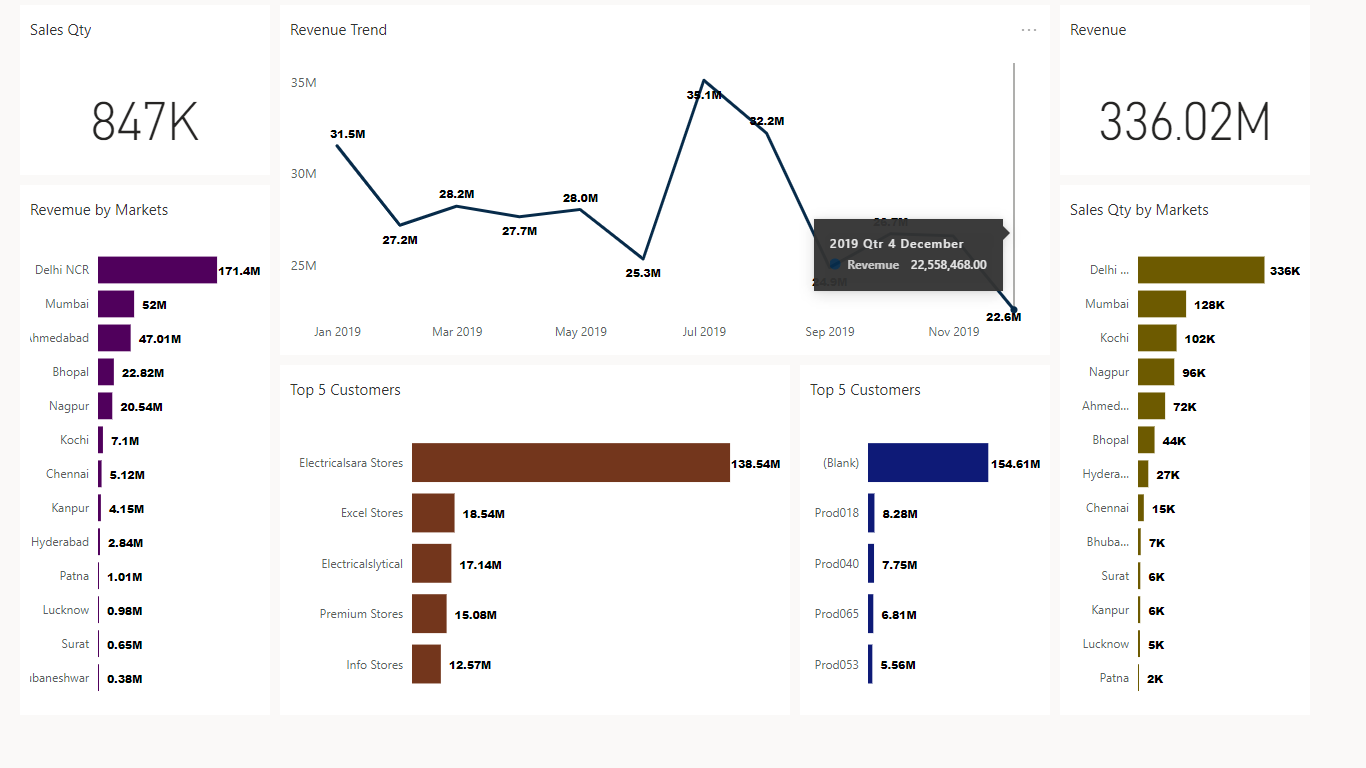

Layout of this report page (visuals, bound fields, positions):
{"tool":"powerbi","page":{"name":"Page 1","canvas":[1280,720],"ordinal":0},"visuals":[{"type":"card","fields":{"Values":["Base Measures.Revemue"]},"box":[165.9,0,236.6,140],"z":0},{"type":"card","fields":{"Values":["Base Measures.Sales Qty"]},"box":[0,0,155.8,140],"z":1000},{"type":"clusteredBarChart","title":"Revemue by Markets","fields":{"Y":["Base Measures.Revemue"],"Category":["sales markets.markets_name"]},"box":[0,154.4,376.6,565.6],"z":2000},{"type":"clusteredBarChart","title":"Sales Qty by Markets","fields":{"Y":["Base Measures.Sales Qty"],"Category":["sales markets.markets_name"]},"box":[402.6,329,376.6,391],"z":3000},{"type":"slicer","fields":{"Values":["sales date.year"]},"box":[415.6,10.1,346.3,95.2],"z":4000},{"type":"slicer","fields":{"Values":["sales date.cy_date"]},"box":[761.8,10.1,507.9,95.2],"z":5000},{"type":"clusteredBarChart","title":"Top 5 Customers","fields":{"Y":["Base Measures.Revemue"],"Category":["sales customers.custmer_name"]},"box":[799.4,515.1,470.4,204.9],"z":6000},{"type":"clusteredBarChart","title":"Top 5 Customers","fields":{"Y":["Base Measures.Revemue"],"Category":["sales products.product_code"]},"box":[799.4,329,470.4,176],"z":7000},{"type":"lineChart","title":"Revenue Trend","fields":{"Y":["Base Measures.Revemue"],"Category":["sales date.cy_date.Variation.Date Hierarchy.Year","sales date.cy_date.Variation.Date Hierarchy.Quarter","sales date.cy_date.Variation.Date Hierarchy.Month","sales date.cy_date.Variation.Date Hierarchy.Day"]},"box":[415.6,105.3,864.3,255.4],"z":8000}]}

Visuals, with their boxes in screenshot pixels (x1, y1, x2, y2), scaled from the page's 1280x720 canvas onto the 1366x768 screenshot:
card - Base Measures.Revemue: x1=177, y1=0, x2=430, y2=149
card - Base Measures.Sales Qty: x1=0, y1=0, x2=166, y2=149
"Revemue by Markets" clusteredBarChart: x1=0, y1=165, x2=402, y2=767
"Sales Qty by Markets" clusteredBarChart: x1=430, y1=351, x2=832, y2=767
slicer - sales date.year: x1=444, y1=11, x2=813, y2=112
slicer - sales date.cy_date: x1=813, y1=11, x2=1355, y2=112
"Top 5 Customers" clusteredBarChart: x1=853, y1=549, x2=1355, y2=767
"Top 5 Customers" clusteredBarChart: x1=853, y1=351, x2=1355, y2=539
"Revenue Trend" lineChart: x1=444, y1=112, x2=1365, y2=385
